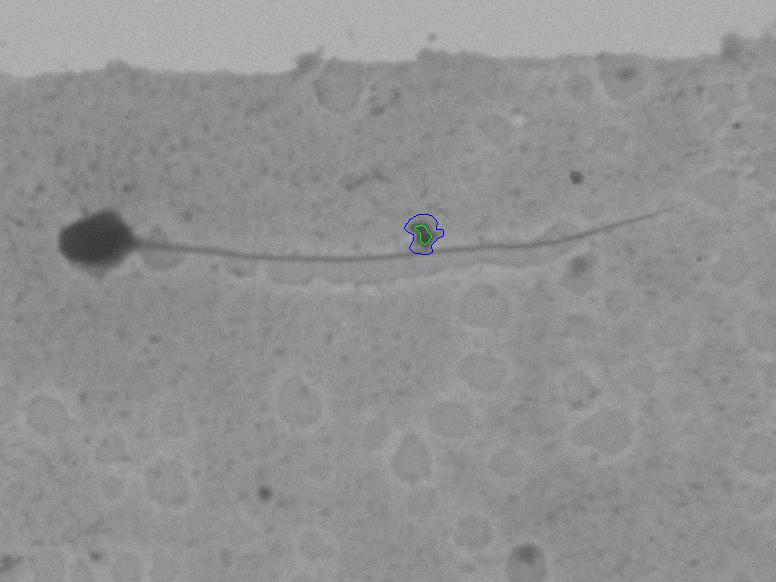Abnormal: (33, 143, 682, 337)
